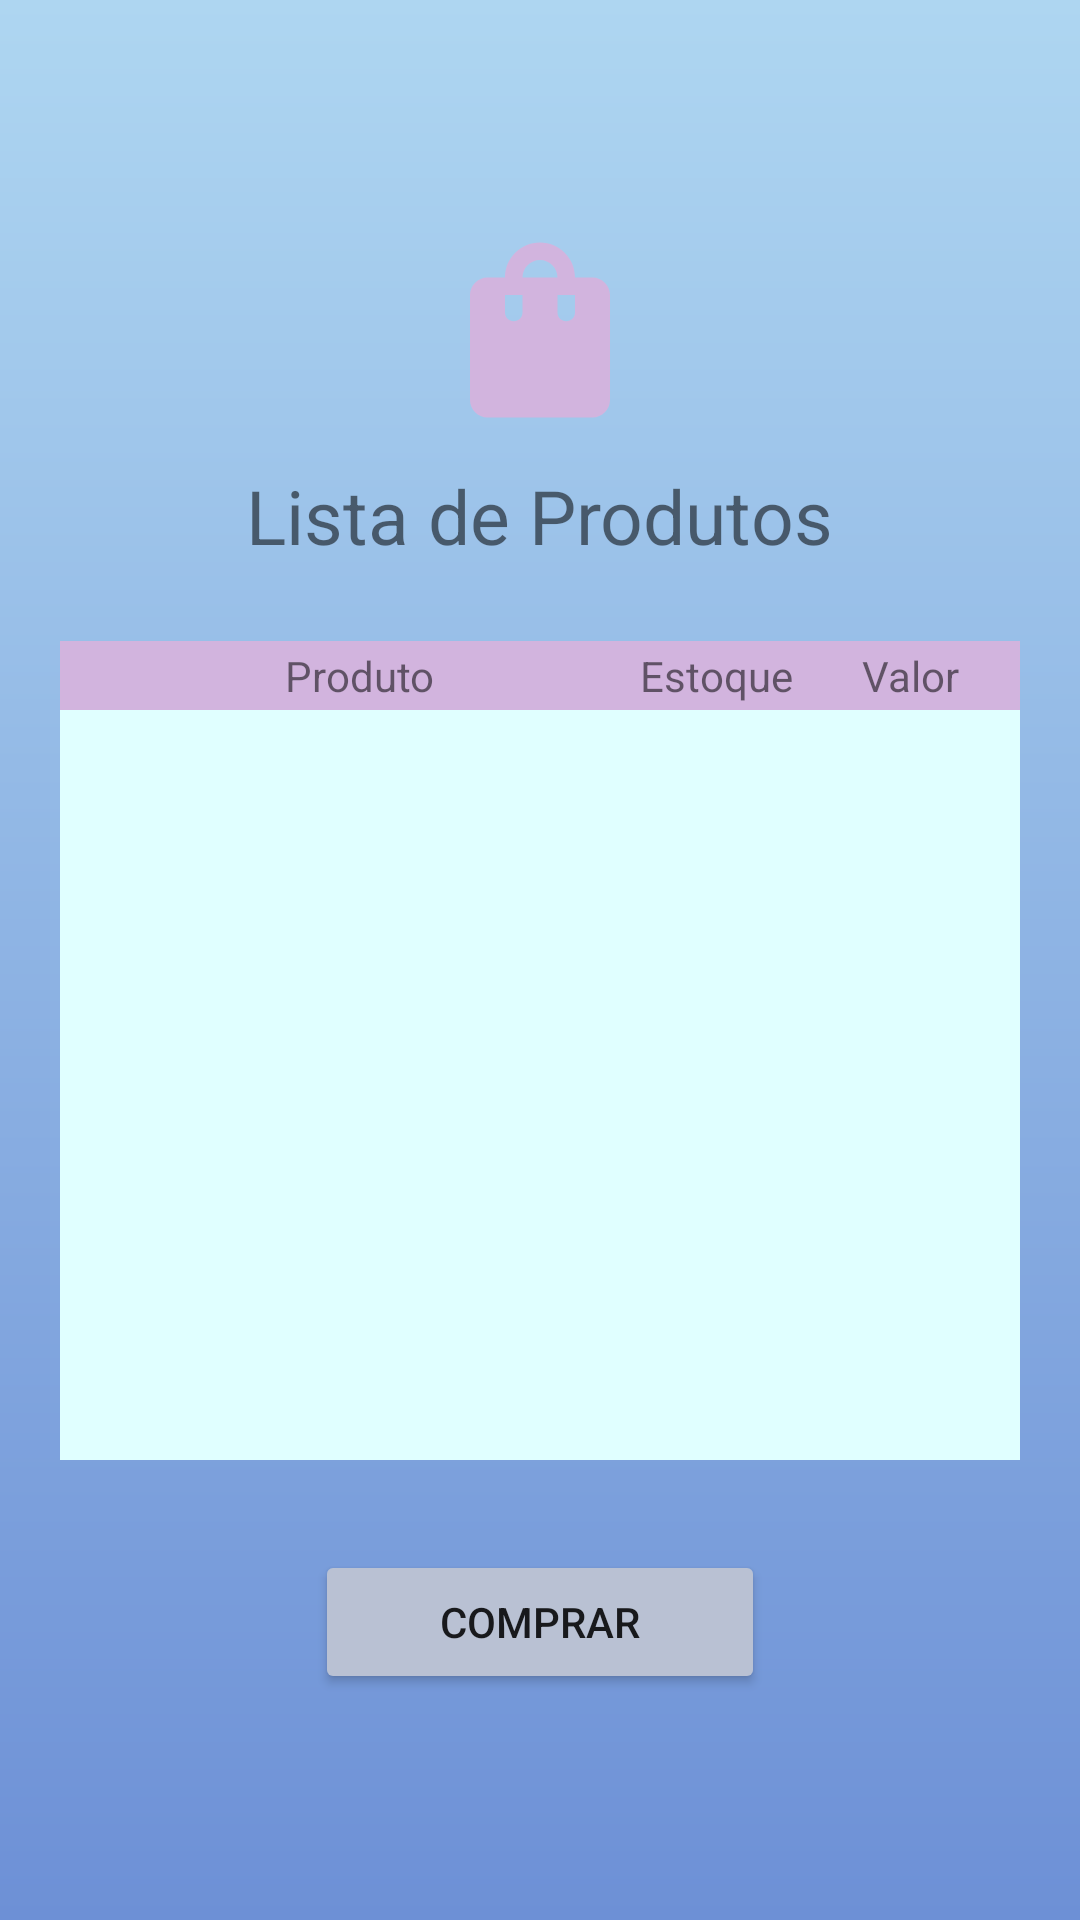

Named icons in this screenshot (1080px x 1920px) and their bounding boxes, [left=x1, top=y1, right=x2, bottom=y2]:
shopping bag: [left=470, top=243, right=610, bottom=417]
